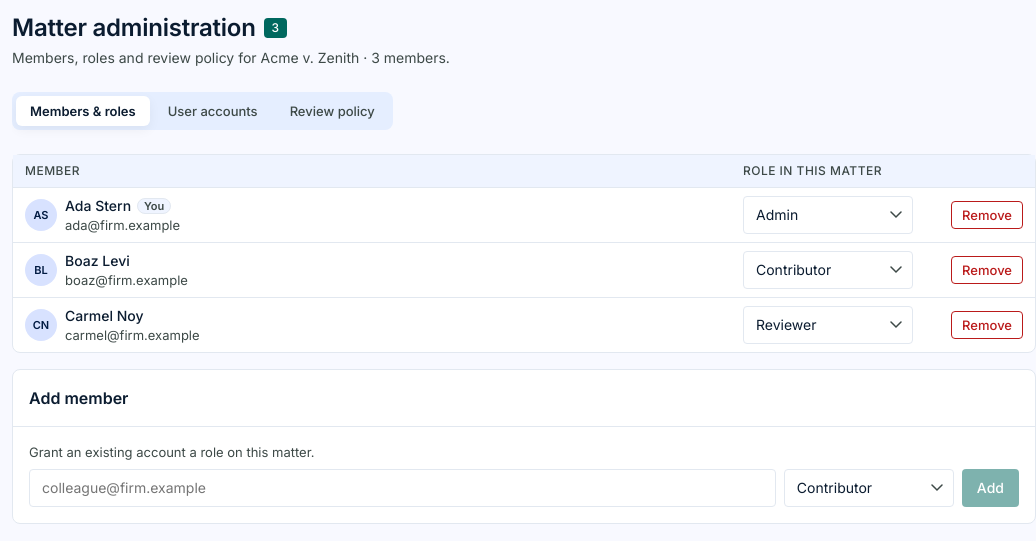
Test: AdminPage › User accounts › lists accounts via api.listUsers on the User accounts tab
Expected: the text "Boaz Levi" is shown, [65,252,130,269]
Click the tab "User accounts" at (213, 111), box [154,96,272,126]
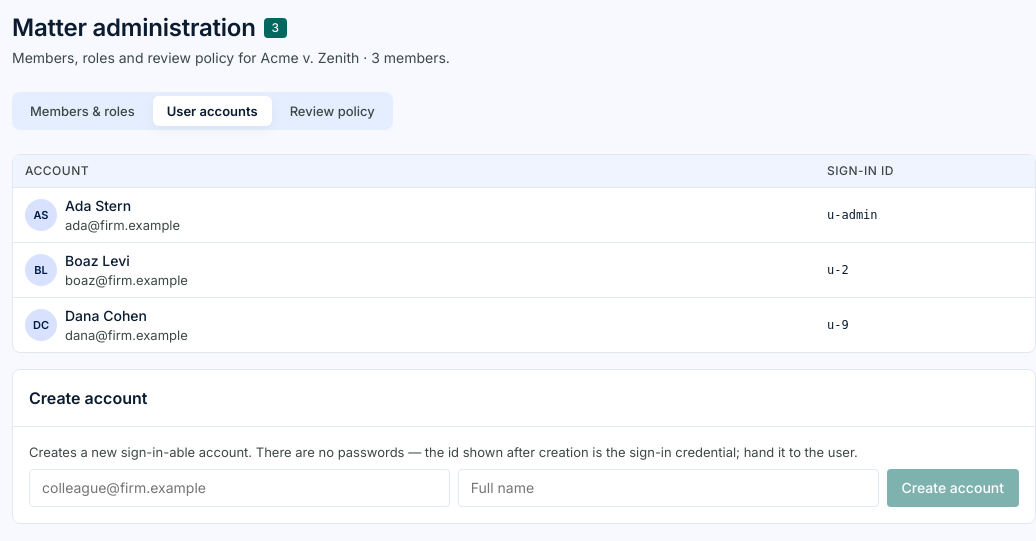
Expected: the text "Dana Cohen" is shown, [65,307,147,324]
Expected: the text "dana@firm.example" is shown, [65,326,188,344]
